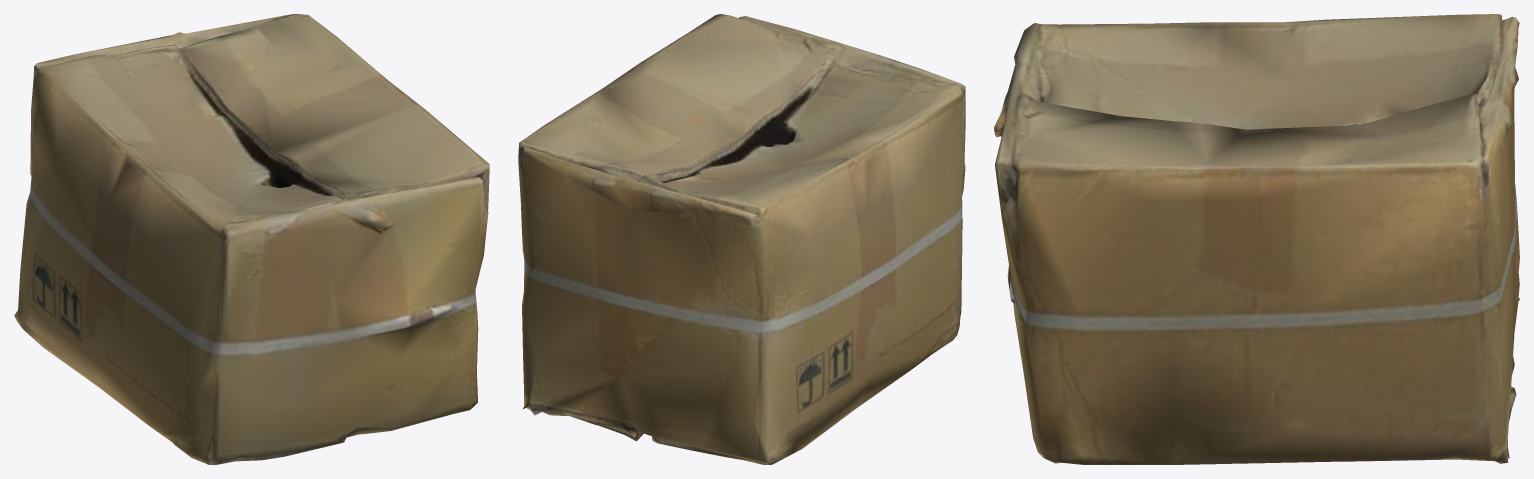
Rendered from cardboard_box_01.gltf.
The picture shows the model from 3 angles, left to right: view 1: azimuth 30°, elevation 25°; view 2: azimuth 150°, elevation 25°; view 3: azimuth 270°, elevation 25°; orthographic projection. The views are drawn at different scales.
Visible parts, largest first — view 1: cardboard_box_01; view 2: cardboard_box_01; view 3: cardboard_box_01.
Part boxes in pixels (x1,y1,x2,y2): cardboard_box_01: (14,14,489,464); cardboard_box_01: (518,14,965,464); cardboard_box_01: (994,14,1519,464).
Bounding box in the file's own units: 0.3868 × 0.3407 × 0.5159.
1 material, 1 textured.
